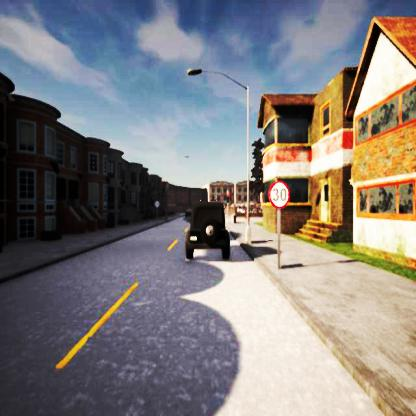vehicle: (186, 202, 229, 259)
